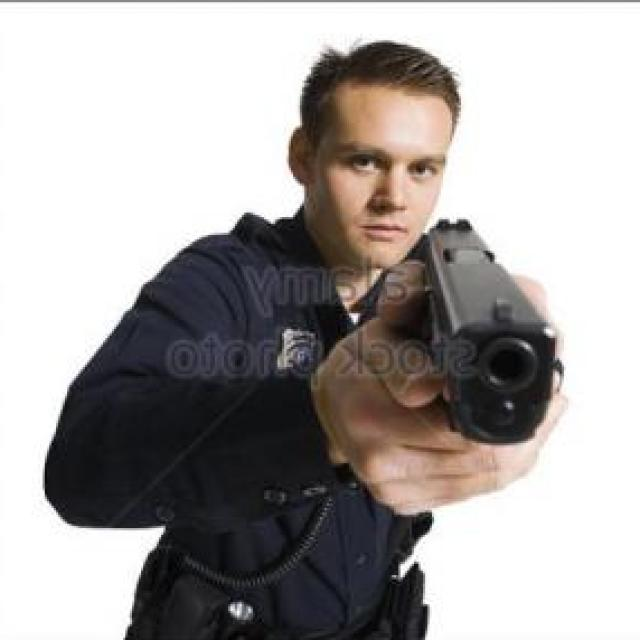pistol: (414, 217, 559, 439)
